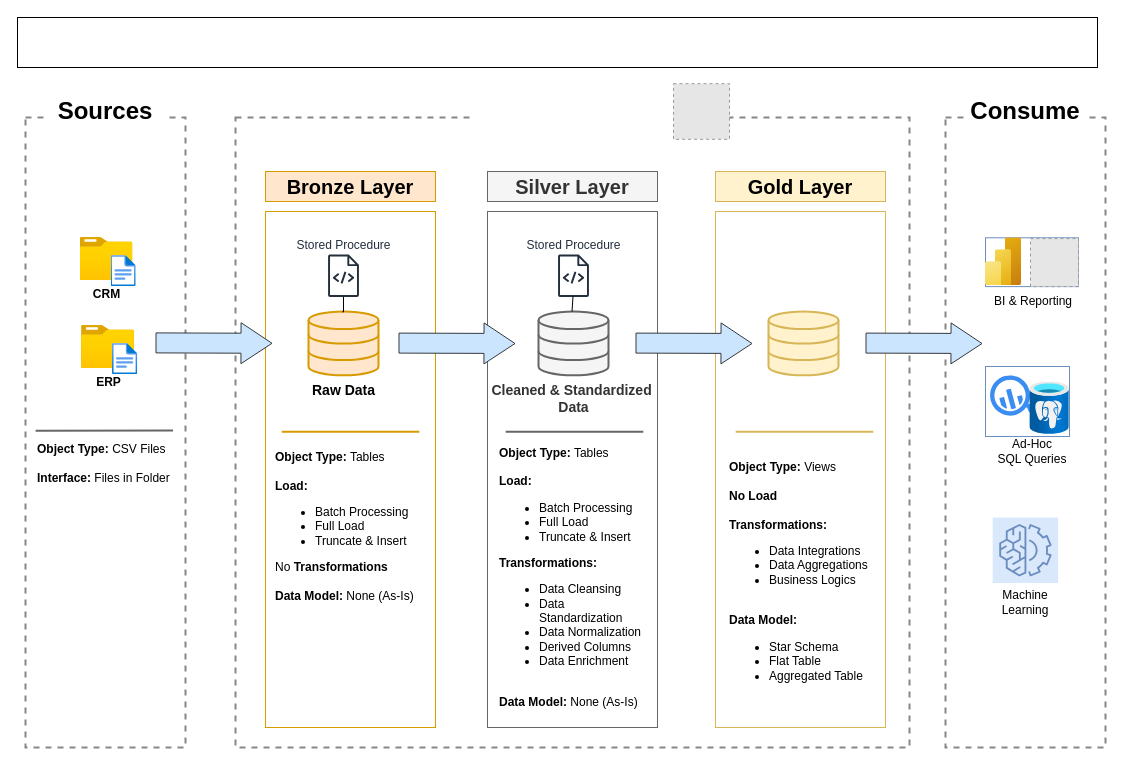
Some shapes in this 1124 by 766 pixel diagram are drawn without their labels. Grey dashed boxes stand in for pictures. Each missing label, with the box of its shape:
Business-Ready Data: (767, 310, 839, 376)
Data Architecture: (16, 16, 1098, 68)
Data Warehouse: (473, 81, 673, 141)
